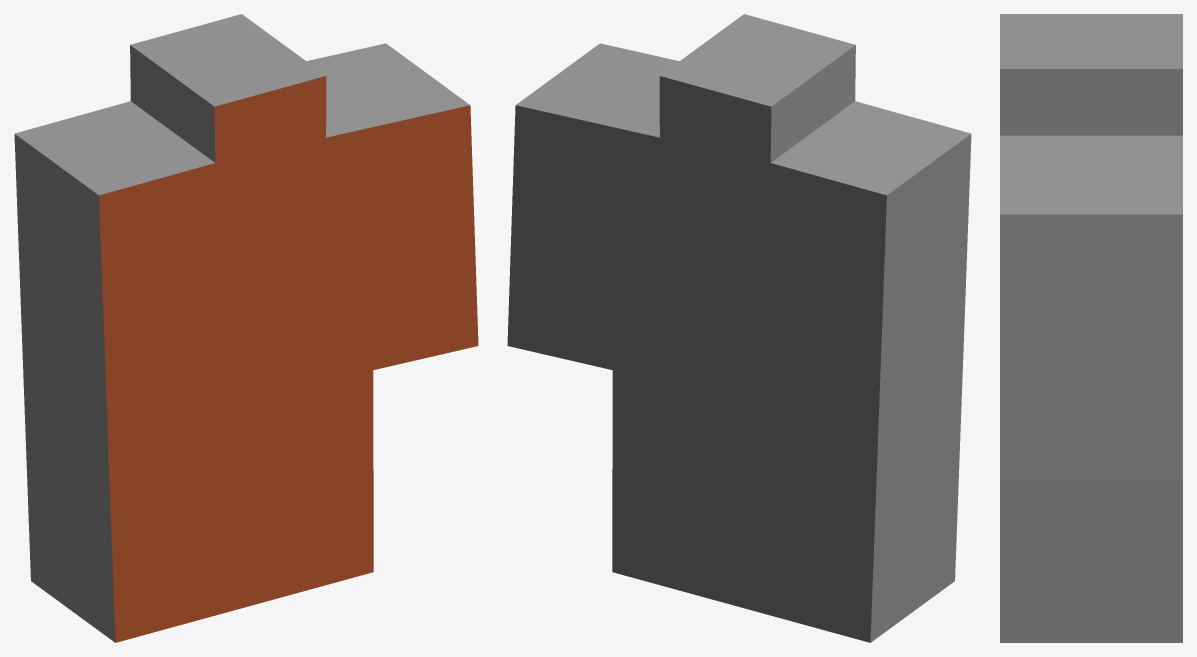
File: construction_2308_assumed_A_Casa_h6m.obj
The picture shows the model from 3 angles, left to right: view 1: azimuth 30°, elevation 25°; view 2: azimuth 150°, elevation 25°; view 3: azimuth 270°, elevation 25°; orthographic projection. The views are drawn at different scales.
Parts seen in each view (by area): view 1: construction_2308_assumed_A_Casa; view 2: construction_2308_assumed_A_Casa; view 3: construction_2308_assumed_A_Casa.
Boxes of the visible parts, x1,y1,x2,y2 form: construction_2308_assumed_A_Casa: (14,14,478,642); construction_2308_assumed_A_Casa: (507,14,971,642); construction_2308_assumed_A_Casa: (1000,14,1182,642).
Size of the model in its own units: 15.55 by 20.19 by 6.
